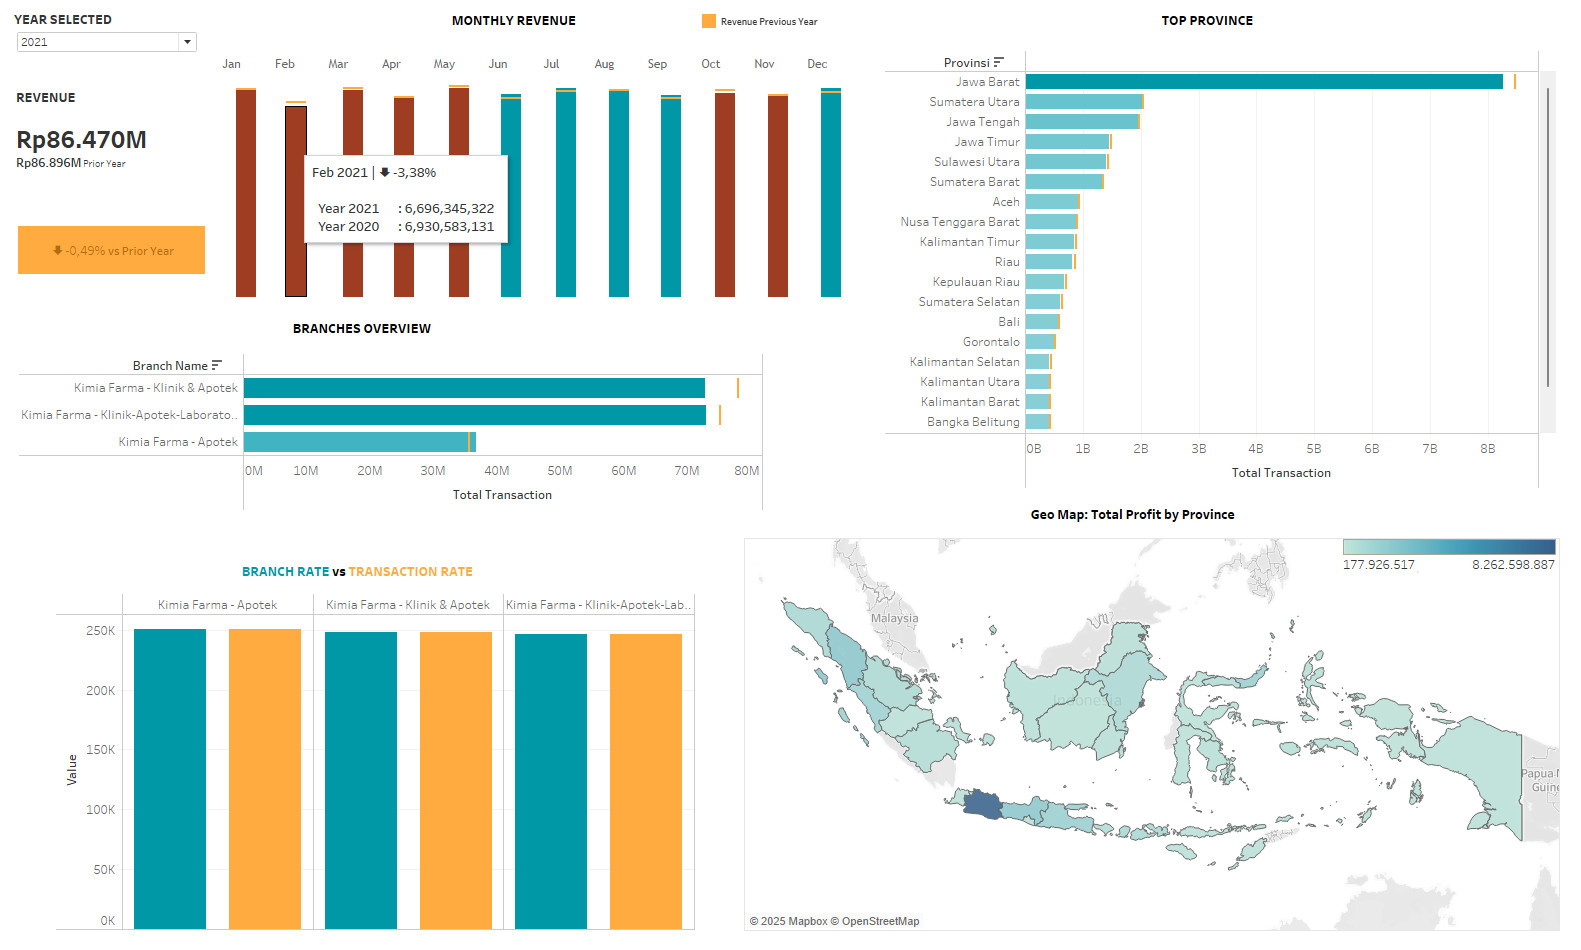

This screenshot's page, from the dashboard's own definition file:
{"tool":"tableau","page":{"name":"Kimia Farma Big Data Analysis","canvas":[1000,1000],"units":"permille","ordinal":0},"visuals":[{"type":"text","box":[367.5,38.6,85.5,35.1]},{"type":"text","box":[737.4,38.6,85.5,35.1]},{"type":"parameter","param":"[Parameters].[Parameter 1]","box":[141.3,46.7,97,51.4]},{"type":"legend","title":"Monthly Revenue","param":"[federated.1cqzmmf1ee7n9v1cnuqod1g3r4e4].[:Measure Names]","box":[497.9,47.9,78.8,24.5]},{"type":"worksheet","title":"Top Provinces by Transaction","mark":"Automatic","rows":["provinsi"],"cols":["Calculation_294422878695182356","LOD Transaction (copy)_294422878695612437"],"box":[594.9,87.6,349.3,433.4]},{"type":"worksheet","title":"Monthly Revenue","mark":"Bar","rows":["Calculation_294422878631219212","Revenue Selected Year (copy)_294422878632808461"],"cols":["date","Calculation_294422878581698568"],"box":[240.8,90,332.9,240.7]},{"type":"worksheet","title":"Revenue","mark":"Automatic","box":[140.1,123.8,103.7,108.6]},{"type":"worksheet","title":"RevenueBtn","mark":"Square","box":[143.1,260.5,99.5,47.9]},{"type":"text","box":[285,343.5,85.5,35.1]},{"type":"worksheet","title":"Top Branches","mark":"Bar","rows":["branch_name"],"cols":["Calculation_294422878695182356","LOD Transaction (copy)_294422878695612437"],"box":[143.7,386.7,387.5,240.7]},{"type":"text","box":[669.5,528,148,35.1]},{"type":"legend","title":"Geo Profit Map","param":"[federated.1cqzmmf1ee7n9v1cnuqod1g3r4e4].[sum:Calculation_294422878702997534:qk]","box":[831.4,566.6,115.2,49.1]},{"type":"worksheet","title":"Geo Profit Map","mark":"Automatic","box":[521.5,568.9,425.1,389]},{"type":"text","box":[258.3,584.1,149.2,35.1]},{"type":"worksheet","title":"Branches with Highest Rating but Lowest Transaction Rating","mark":"Automatic","cols":["branch_name"],"box":[163.1,625,332.9,332.9]}]}

Visuals, with their boxes on the dashboard's canvas, which has no fixed pixel size, in thousandths of its width and height (x1, y1, x2, y2). These are canvas units, not pixel positions in the 1581x950 screenshot, which may show the page scaled, cropped or inside an application window:
text: <box>368,39,453,74</box>
text: <box>737,39,823,74</box>
parameter: <box>141,47,238,98</box>
"Monthly Revenue" legend: <box>498,48,577,72</box>
"Top Provinces by Transaction" worksheet: <box>595,88,944,521</box>
"Monthly Revenue" worksheet (Bar marks): <box>241,90,574,331</box>
"Revenue" worksheet: <box>140,124,244,232</box>
"RevenueBtn" worksheet (Square marks): <box>143,260,243,308</box>
text: <box>285,344,370,379</box>
"Top Branches" worksheet (Bar marks): <box>144,387,531,627</box>
text: <box>670,528,818,563</box>
"Geo Profit Map" legend: <box>831,567,947,616</box>
"Geo Profit Map" worksheet: <box>522,569,947,958</box>
text: <box>258,584,408,619</box>
"Branches with Highest Rating but Lowest Transaction Rating" worksheet: <box>163,625,496,958</box>
